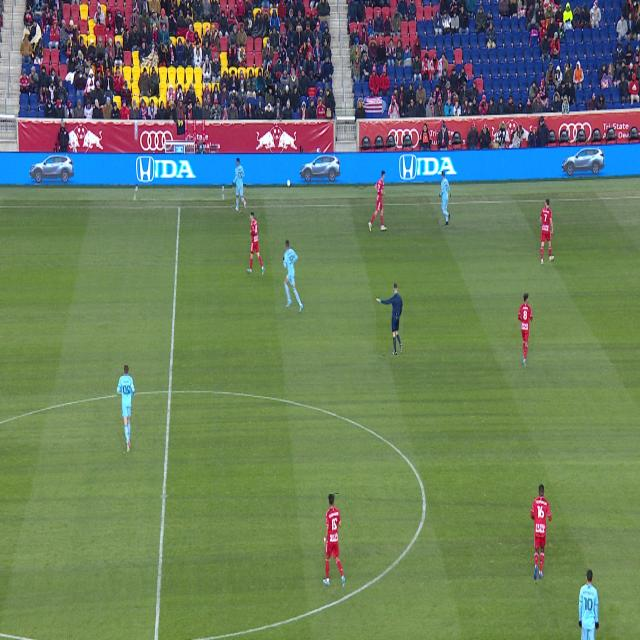player: (323, 494, 345, 589), (531, 485, 552, 580), (117, 366, 135, 452), (579, 570, 600, 640), (283, 240, 303, 312), (368, 171, 387, 232), (247, 212, 265, 275), (518, 293, 533, 367), (540, 199, 554, 265), (232, 158, 246, 211), (440, 171, 450, 225)
referee: (376, 283, 403, 355)
